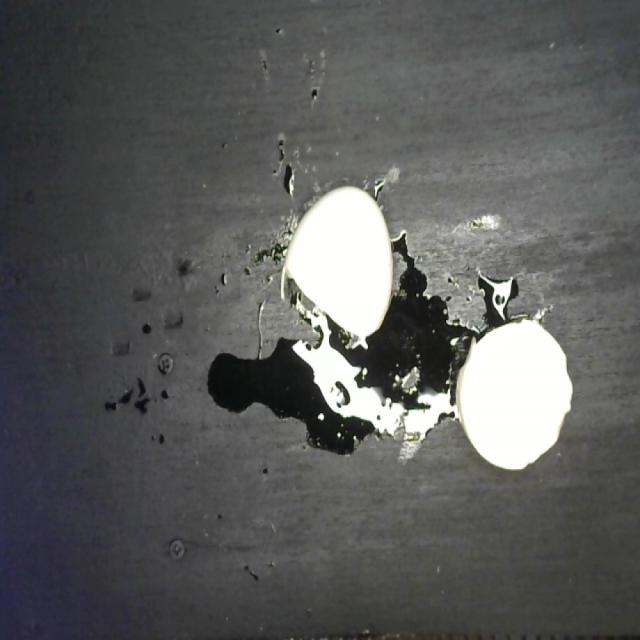biodegradable: (274, 179, 581, 480)
